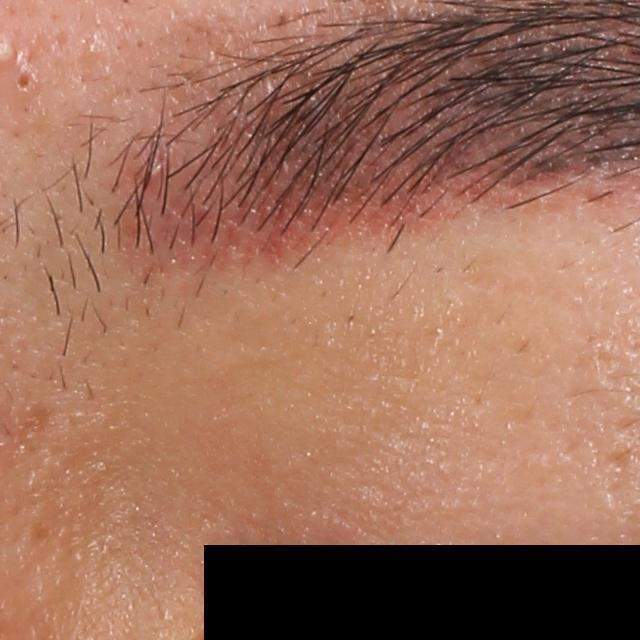comedo: (13, 63, 45, 94)
